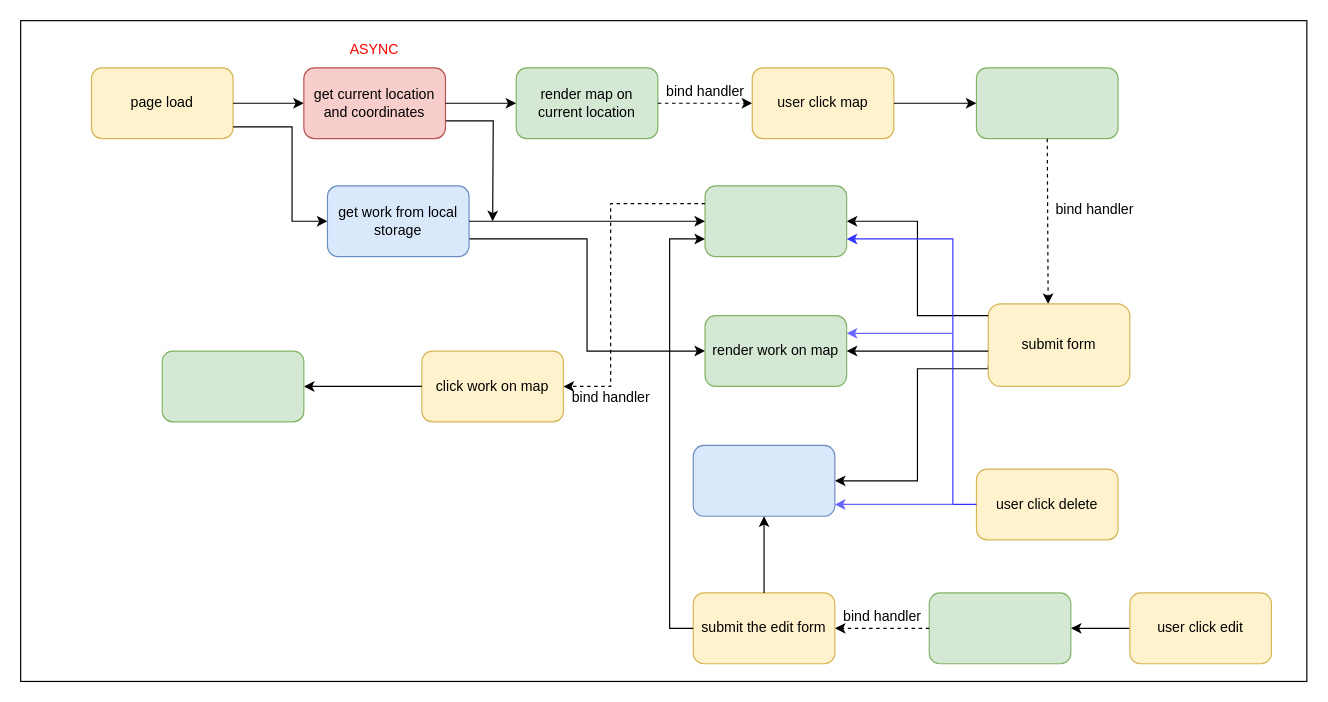
This 1328x702 diagram has some shape labels left out. The box of each missing label's shape, as (x1, y1, x2, y2) in pixels:
move map on work location: (161, 350, 304, 422)
render the edit form: (928, 592, 1071, 664)
render the form: (975, 67, 1118, 139)
render work on list: (704, 185, 847, 257)
store work on local storage: (692, 444, 835, 516)
